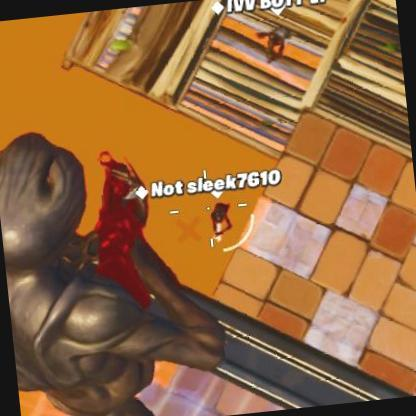person: (260, 30, 290, 60), (208, 206, 232, 232)
